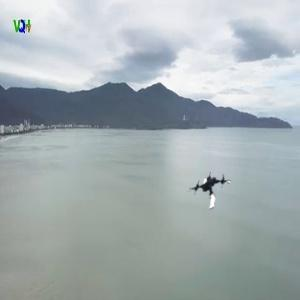drone: (186, 169, 234, 217)
